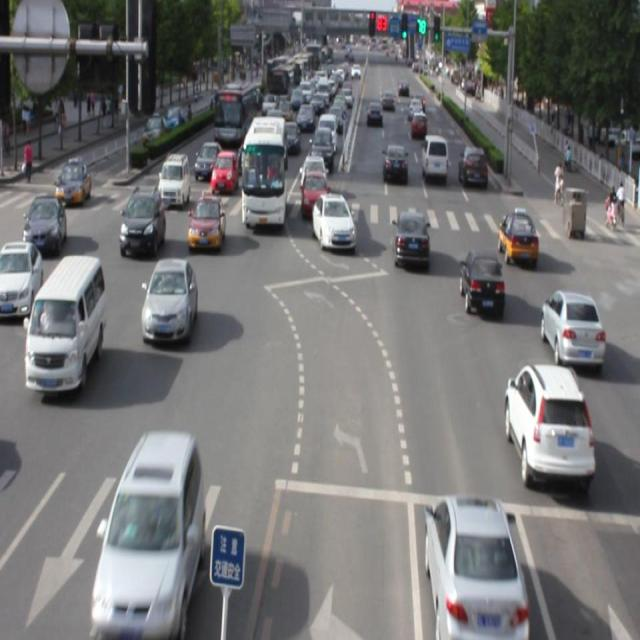car: (90, 430, 204, 628), (426, 489, 524, 640), (505, 362, 592, 484), (542, 288, 604, 364), (141, 258, 197, 342), (119, 185, 166, 258), (459, 247, 503, 315), (311, 196, 355, 253), (187, 196, 225, 250), (395, 209, 428, 269), (498, 210, 536, 261)
truck: (25, 252, 103, 393)
van: (242, 114, 284, 228)
